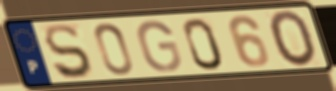0: (180, 15, 226, 72), (93, 21, 136, 78)
6: (226, 13, 271, 69)
G: (135, 19, 184, 74)
O: (267, 8, 320, 69)
S: (42, 22, 95, 81)
